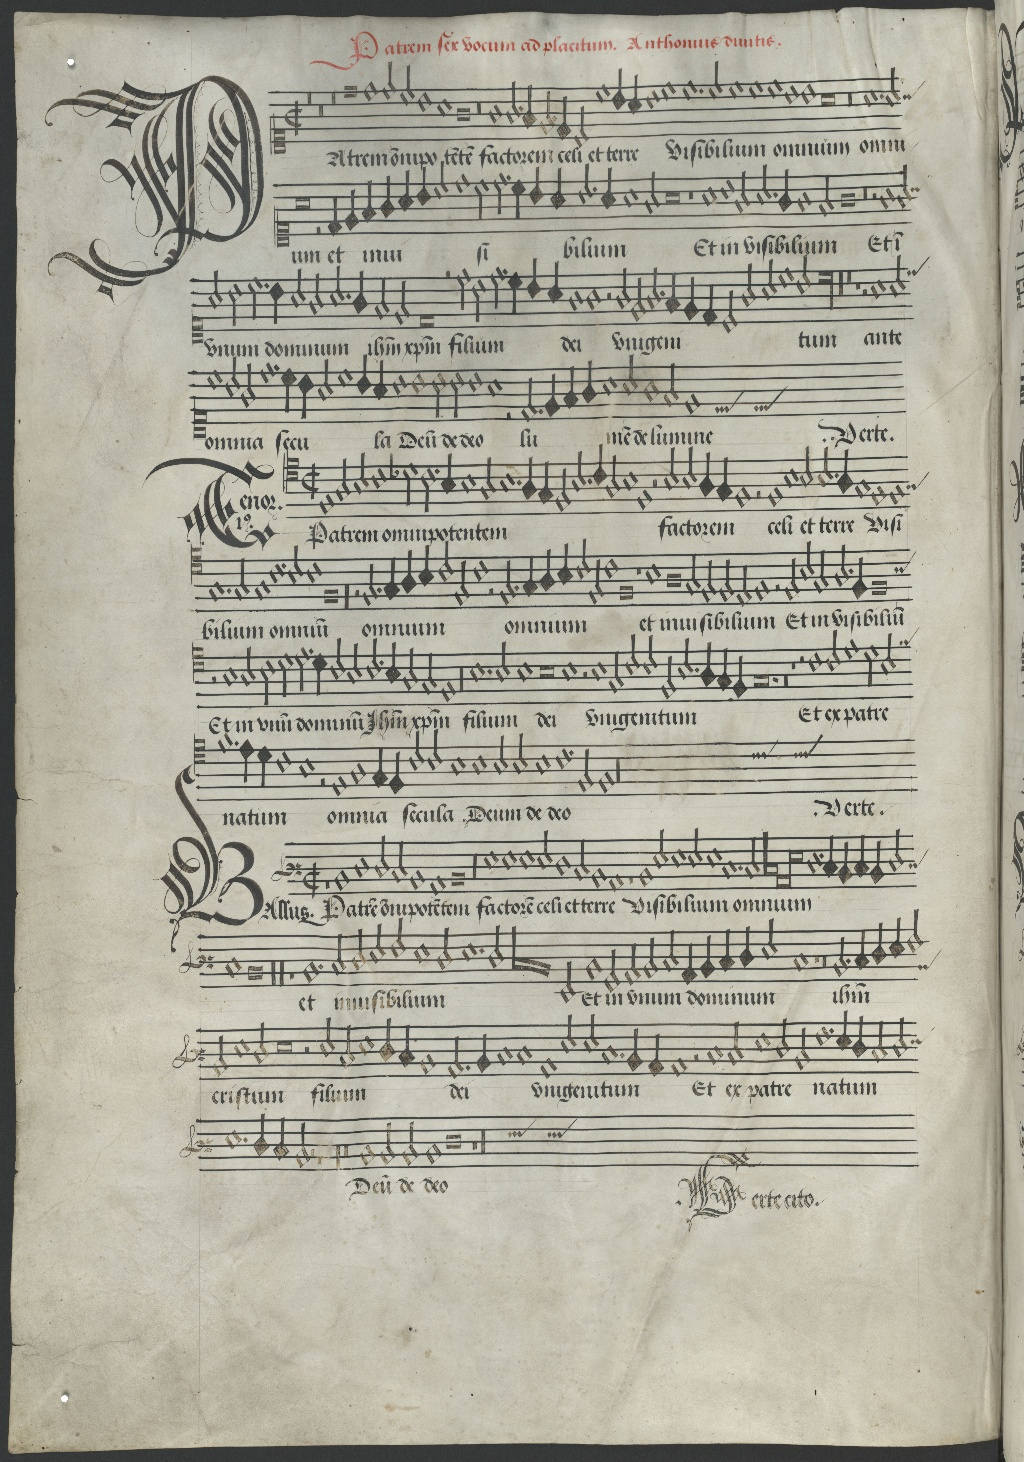breve rest: (817, 923, 829, 990)
breve_9: (241, 957, 267, 989)
custos_9: (914, 952, 938, 983)
f clef_7: (177, 939, 218, 983)
longa rest: (265, 933, 279, 998), (275, 929, 287, 995)
minim_10: (624, 934, 643, 991)
minim_11: (603, 941, 622, 997)
minim_13: (559, 953, 579, 1001)
minim_5: (904, 914, 924, 960), (390, 914, 406, 967)
minim_6: (367, 917, 386, 971), (759, 914, 779, 969)
minim_7: (434, 919, 454, 979), (486, 917, 505, 977), (349, 920, 368, 979)
minim_8: (328, 927, 347, 984), (662, 921, 680, 978)
minim_9: (830, 927, 847, 984), (642, 929, 660, 985)
o1semibreve_8: (505, 917, 529, 988)
o2semibreve_9: (532, 914, 555, 985)
point: (311, 955, 327, 977), (471, 939, 486, 960), (841, 951, 855, 971)
semibreve rest: (809, 923, 821, 988), (287, 929, 298, 995)
semibreve_6: (410, 933, 432, 973), (458, 933, 480, 971)
semibreve_8: (789, 942, 811, 981)
semibreve_9: (220, 947, 243, 988), (581, 949, 604, 989), (299, 953, 320, 993)
semiminim_10: (680, 937, 697, 992)
semiminim_6: (887, 914, 905, 967)
semiminim_7: (870, 915, 887, 974), (737, 919, 755, 977)
semiminim_8: (717, 921, 735, 979), (853, 922, 870, 977)
semiminim_9: (699, 927, 717, 987)
